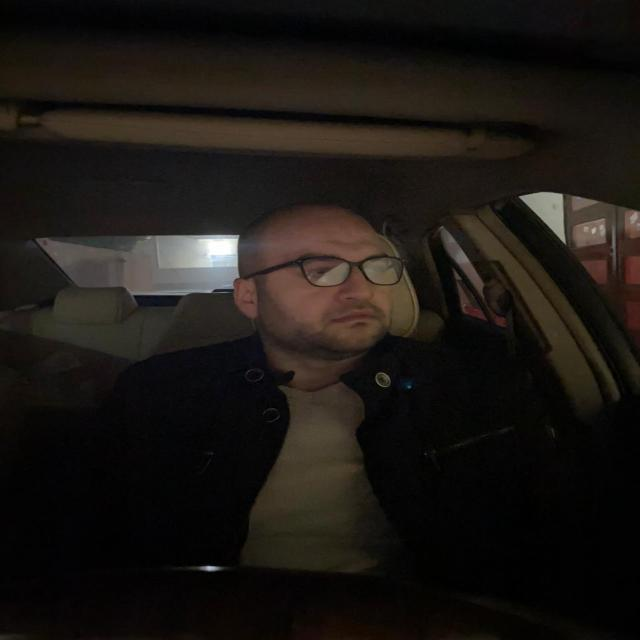person: (225, 187, 419, 375)
